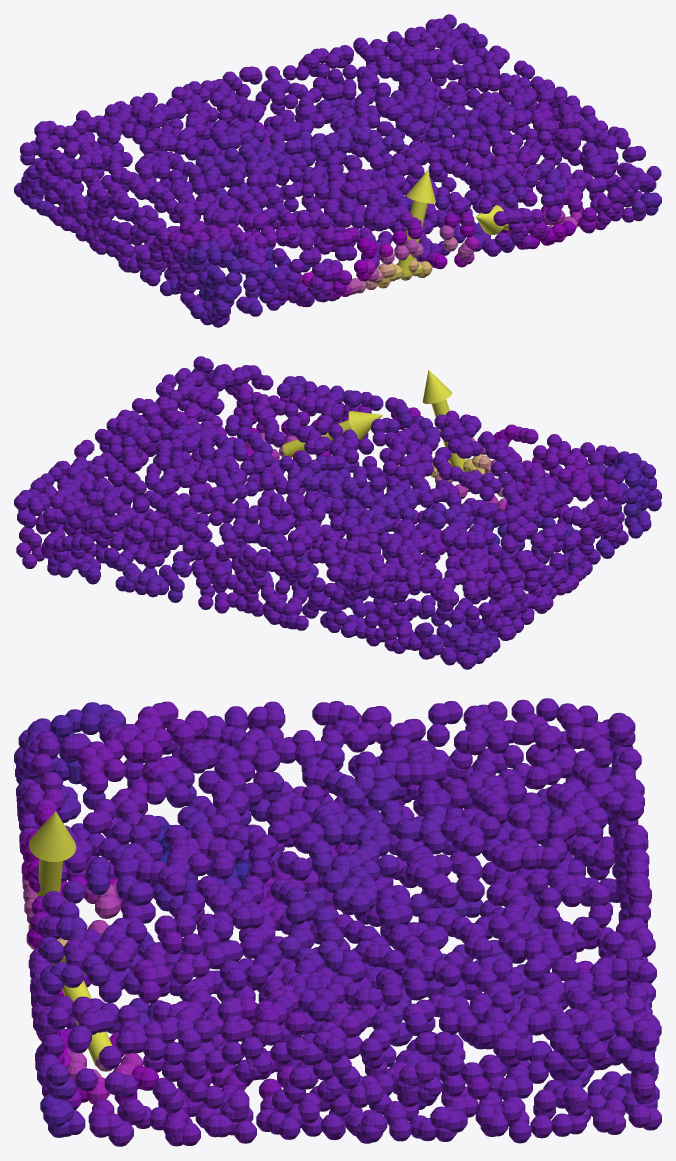
Rendered from pred_heatmap_1.glb.
3 renders of one model, top to bottom at view 1: azimuth 30°, elevation 25°; view 2: azimuth 150°, elevation 25°; view 3: azimuth 270°, elevation 25°, orthographic. The views are drawn at different scales.
Visible parts, largest first — view 1: world; view 2: world; view 3: world.
Part boxes in pixels (x1,y1,x2,y2): world: (14, 14, 661, 327); world: (14, 356, 661, 669); world: (14, 698, 661, 1146).
Bounding box in the file's own units: 2.1 × 0.4673 × 1.63.
